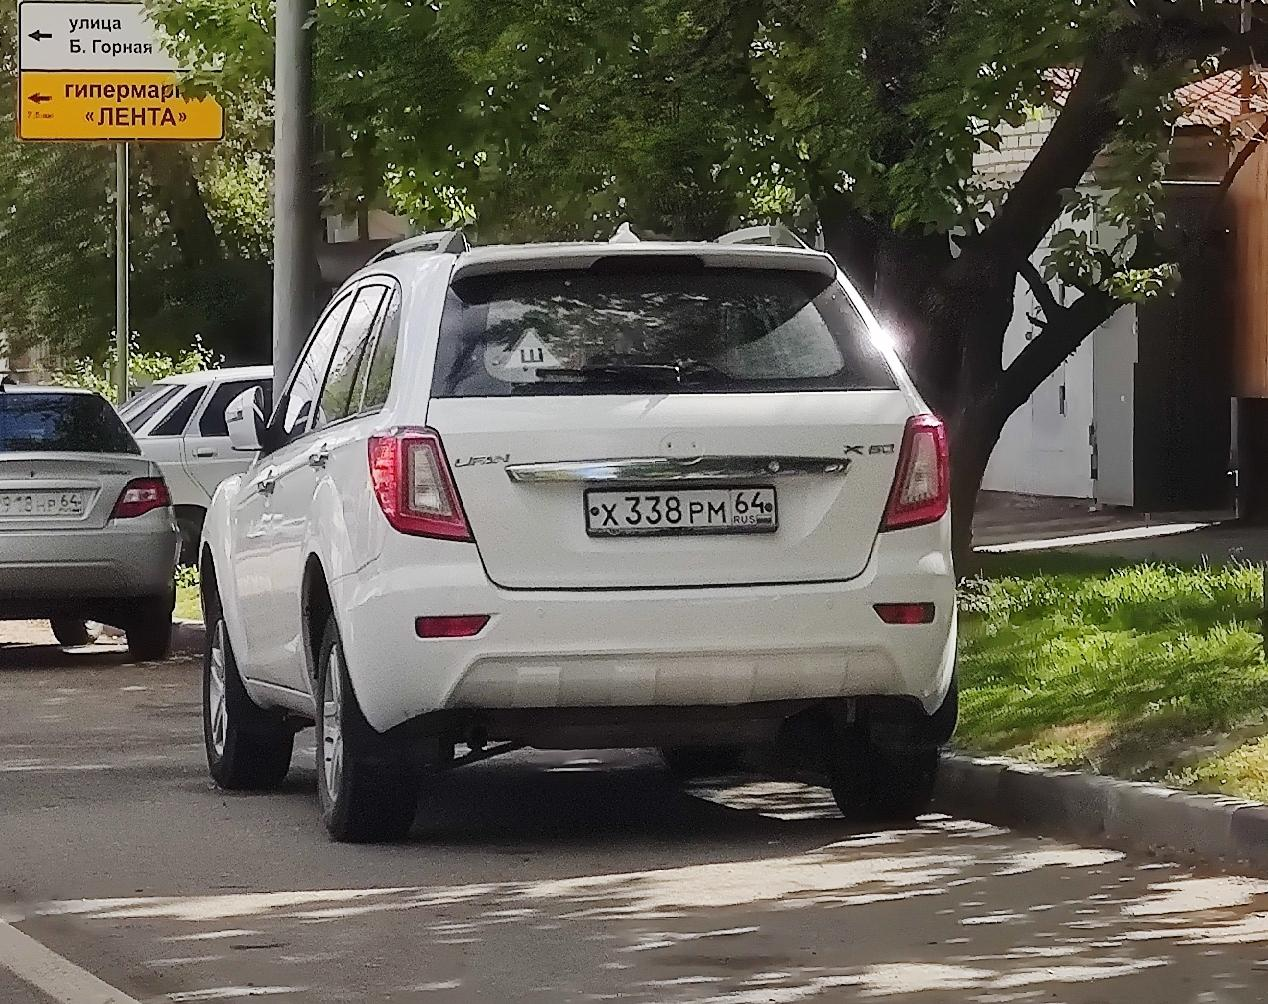license-plateSW: (588, 491, 779, 529), (0, 494, 82, 514)
